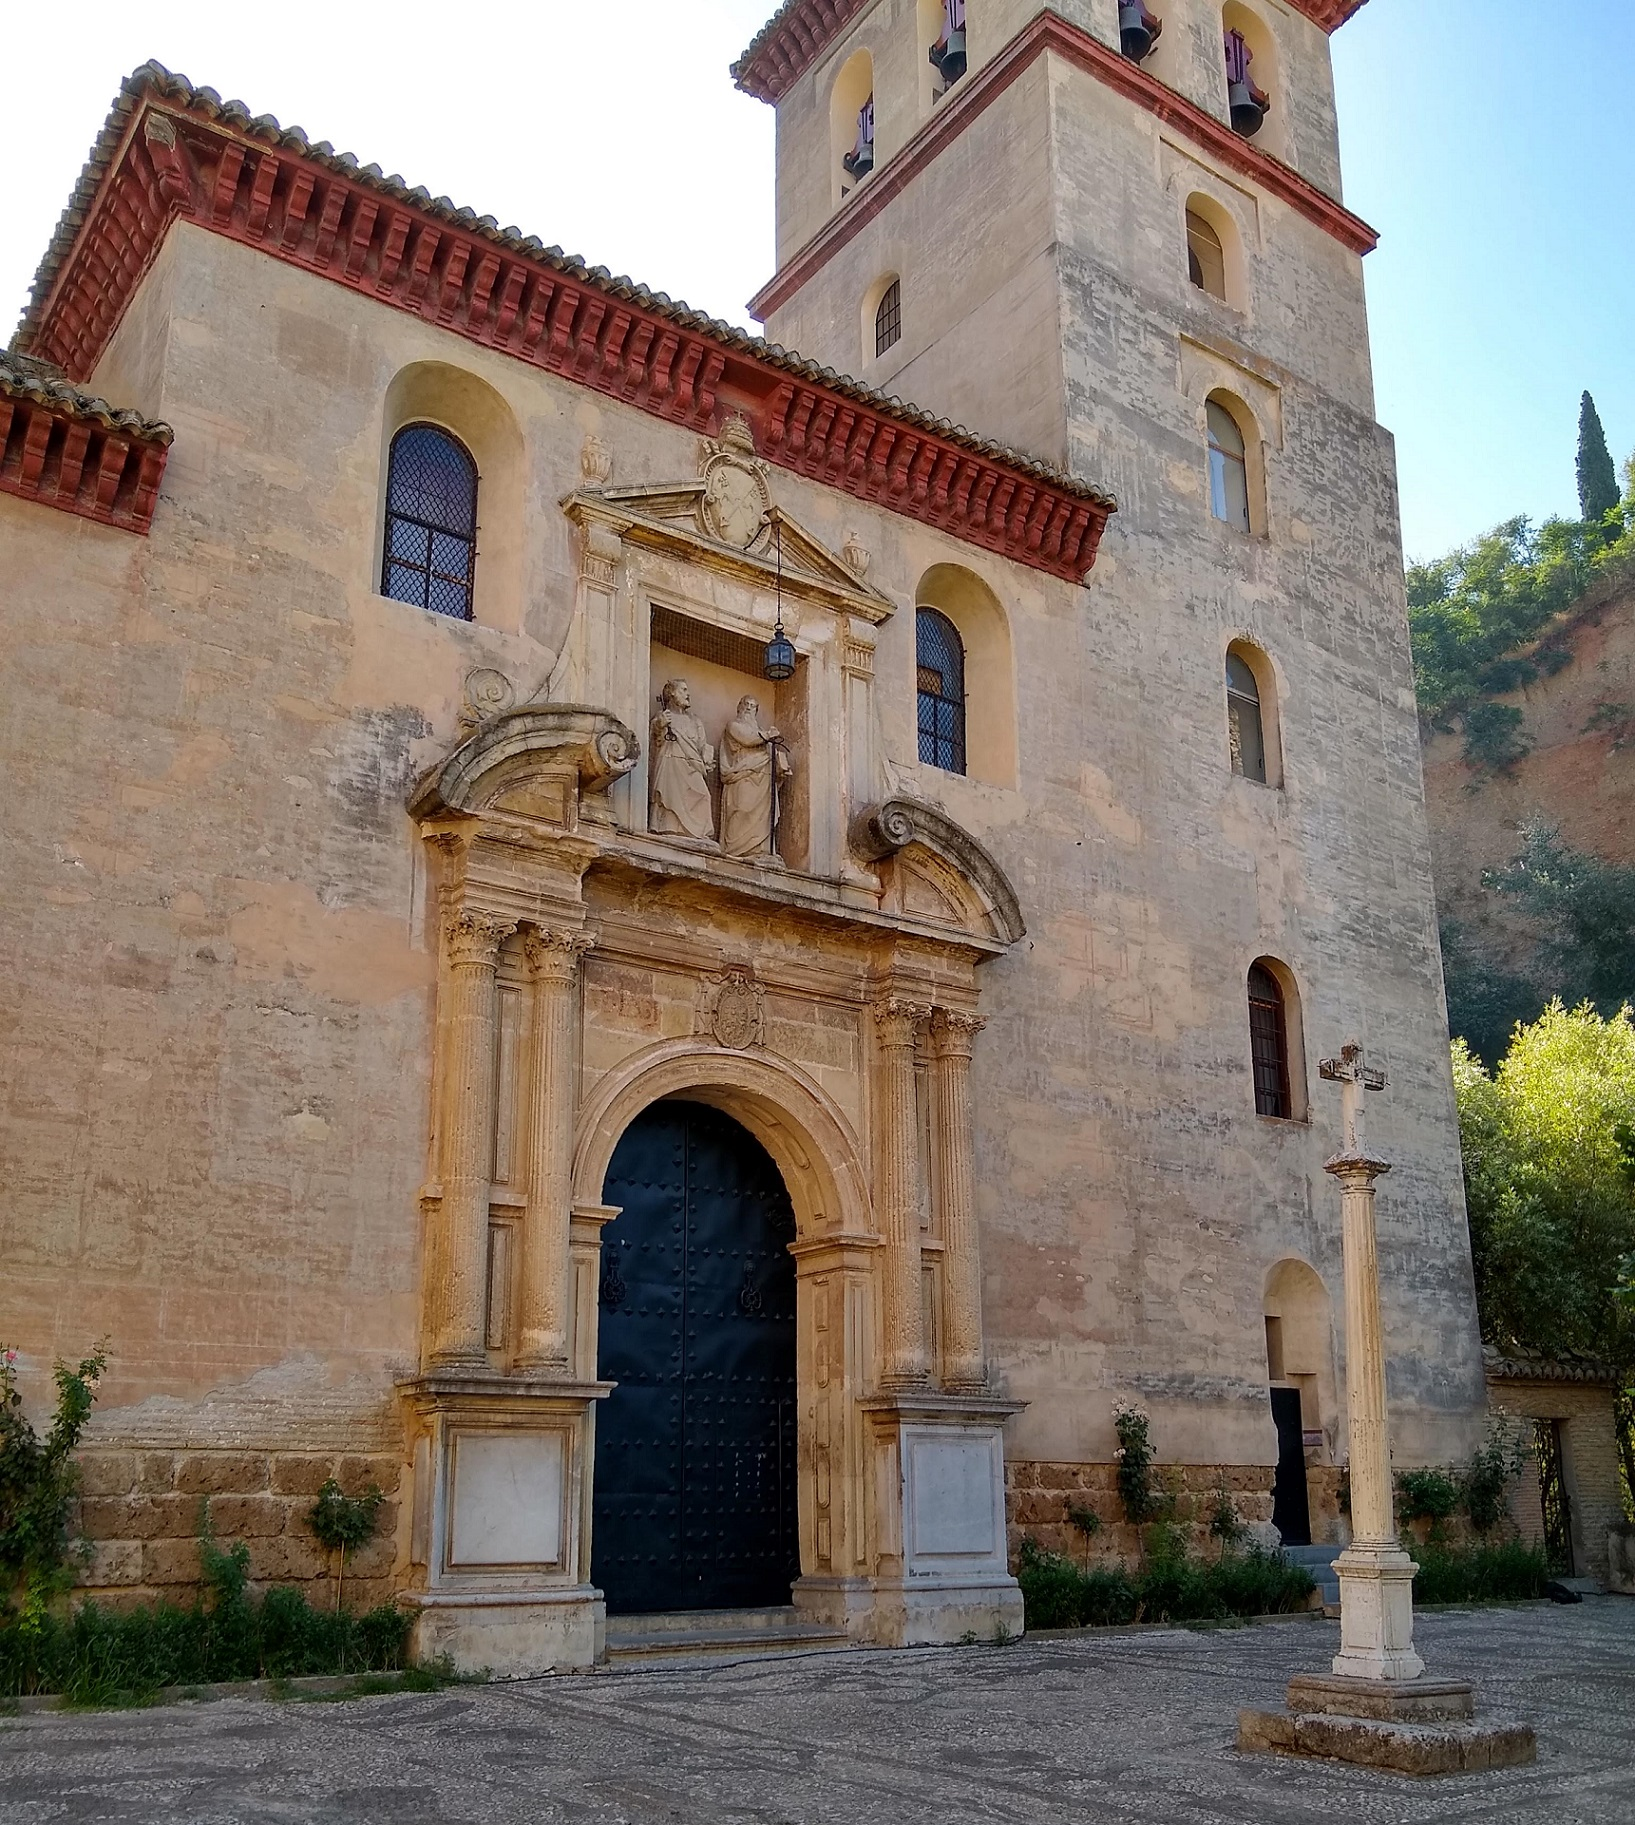arco-medio-punto: (590, 1062, 868, 1276)
fronton-partido: (410, 703, 1027, 954), (559, 474, 896, 625)
vano-adintelado: (627, 576, 822, 879)
